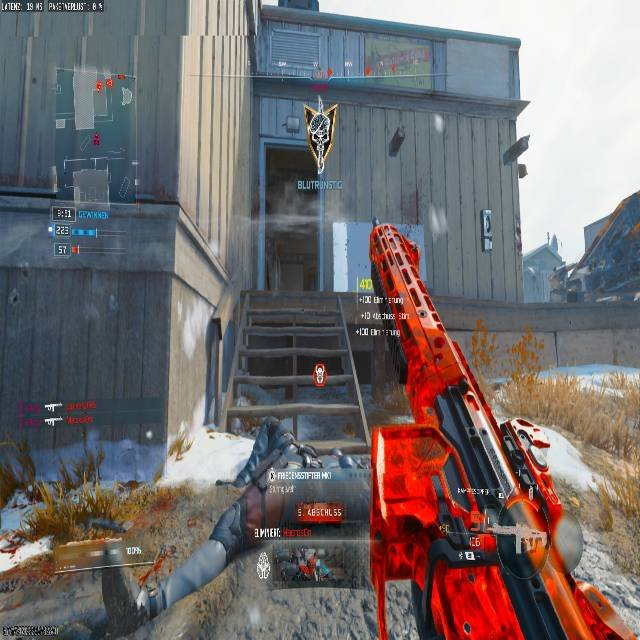player: (148, 415, 324, 626)
